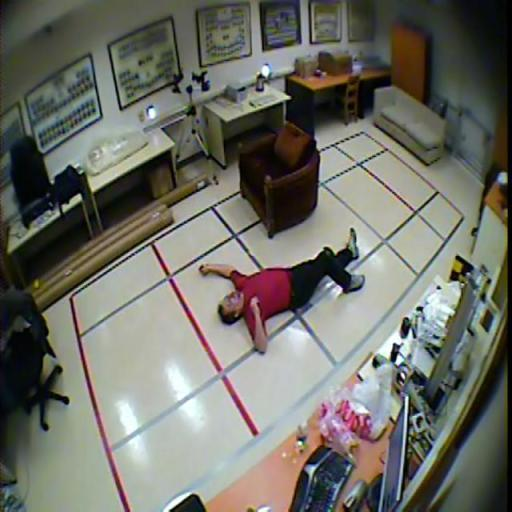Fall: (197, 225, 367, 358)
